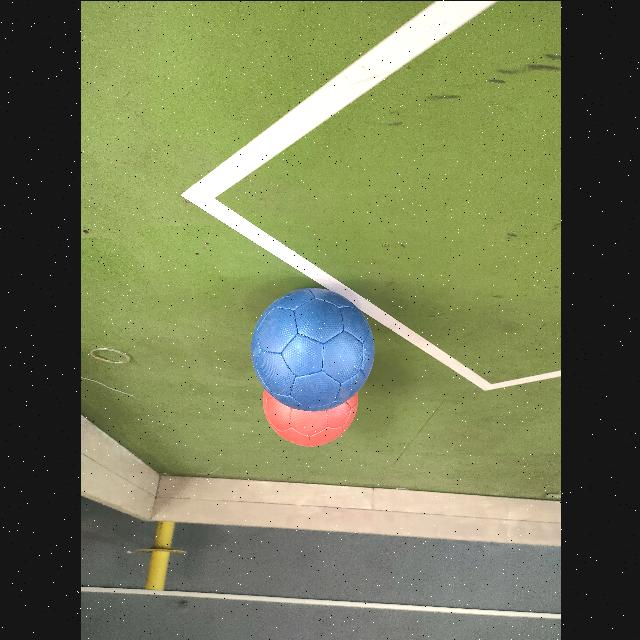B: (250, 287, 374, 411)
R: (262, 390, 358, 446)
